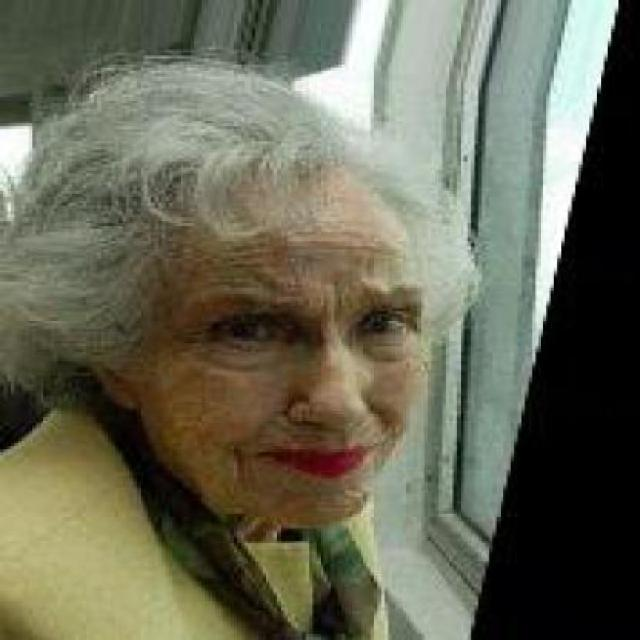closed-mouth: (262, 440, 384, 486)
